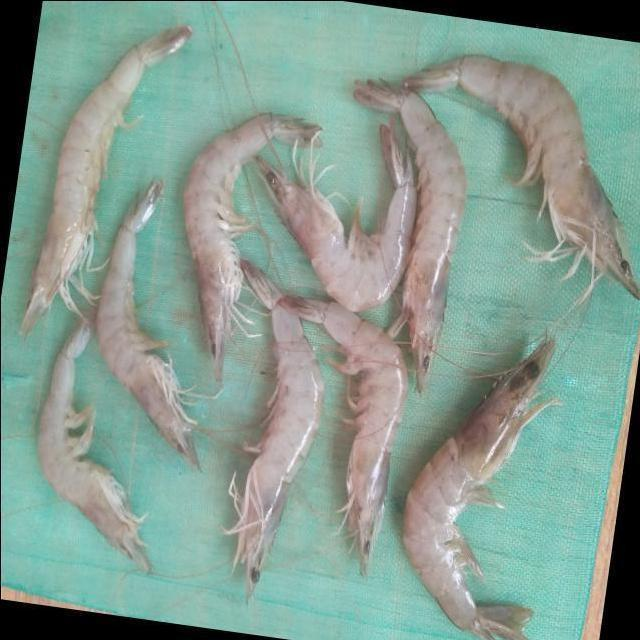shrimp: (403, 54, 640, 299), (18, 24, 191, 335), (403, 339, 557, 640), (182, 112, 320, 383), (277, 296, 407, 575), (352, 79, 467, 393), (222, 259, 323, 601), (256, 121, 416, 311), (36, 308, 150, 574), (95, 180, 198, 468)
